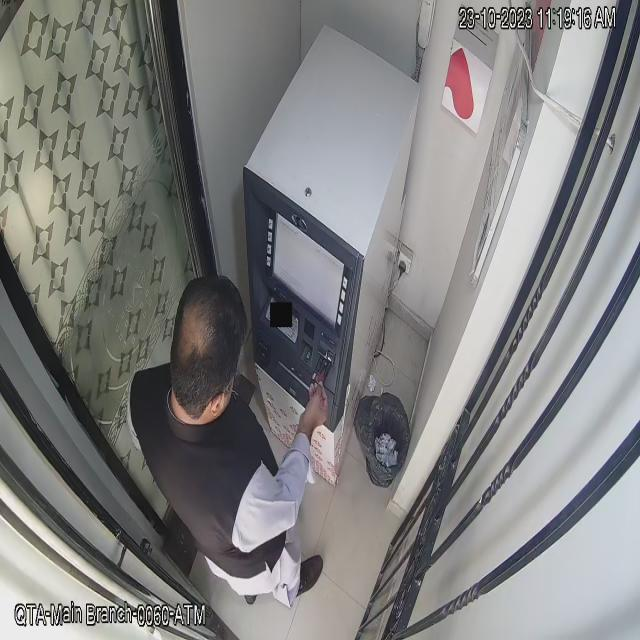atm-card: (307, 344, 336, 394)
